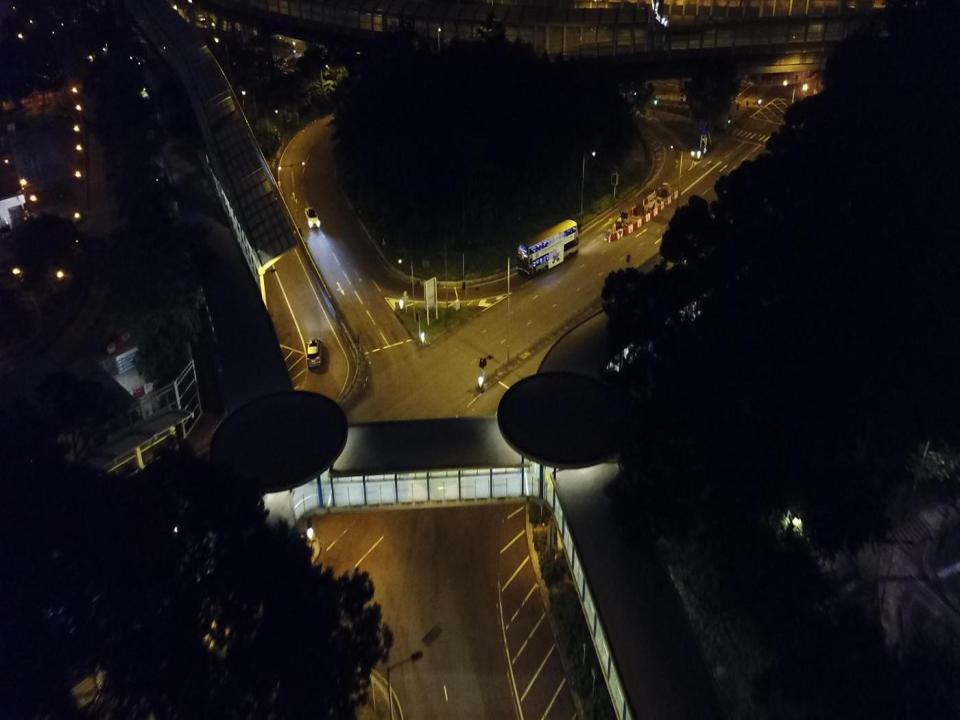bus: (516, 218, 579, 279)
car: (304, 206, 321, 228)
van: (305, 337, 324, 369)
